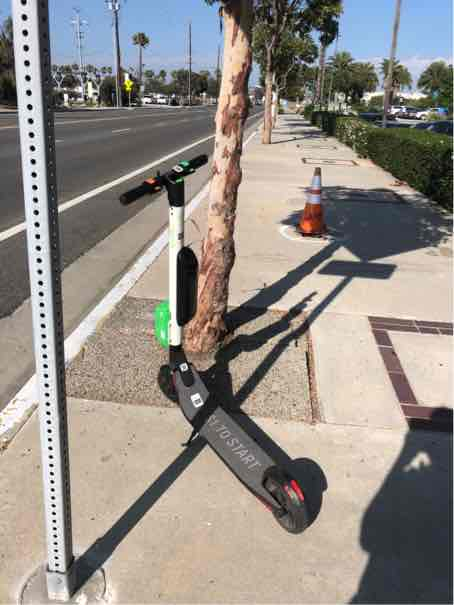scooter: (109, 147, 314, 544)
